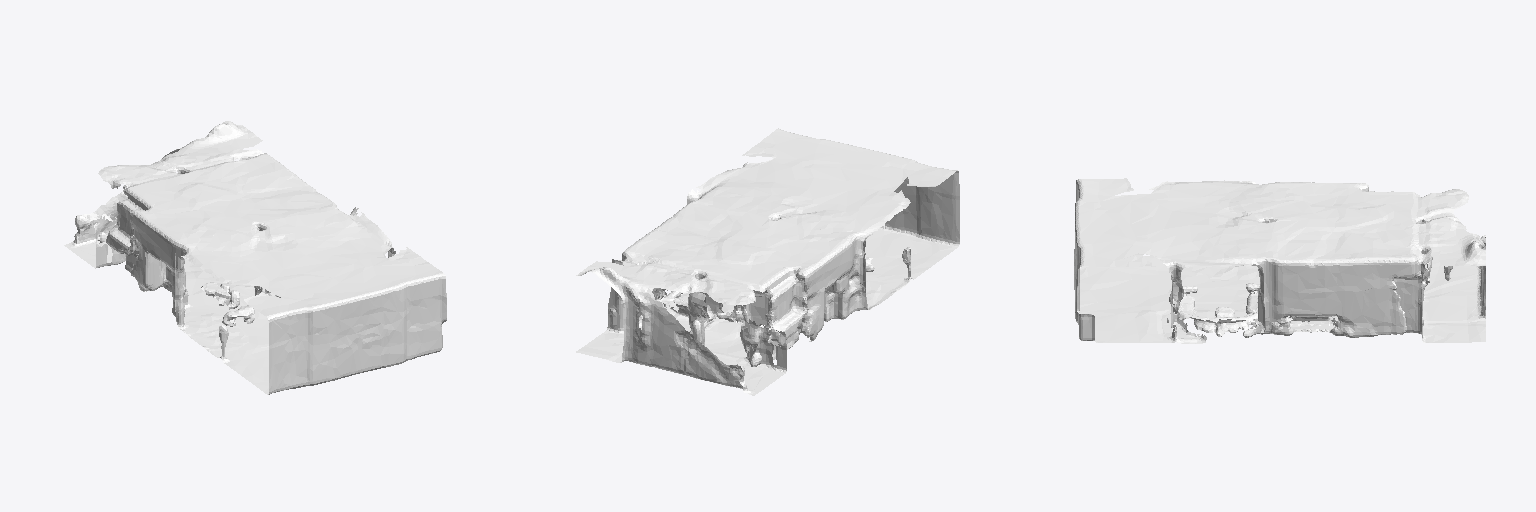
File: EnacRestArea.obj
The picture shows the model from 3 angles: view 1: azimuth 30°, elevation 25°; view 2: azimuth 150°, elevation 25°; view 3: azimuth 270°, elevation 25°; orthographic projection.
Visible parts, largest first — view 1: mesh; view 2: mesh; view 3: mesh.
Part boxes in pixels (x1,y1,x2,y2): mesh: (64, 121, 446, 394); mesh: (576, 128, 959, 395); mesh: (1074, 178, 1485, 343).
Size of the model in its own units: 6.51 by 3.11 by 13.02.